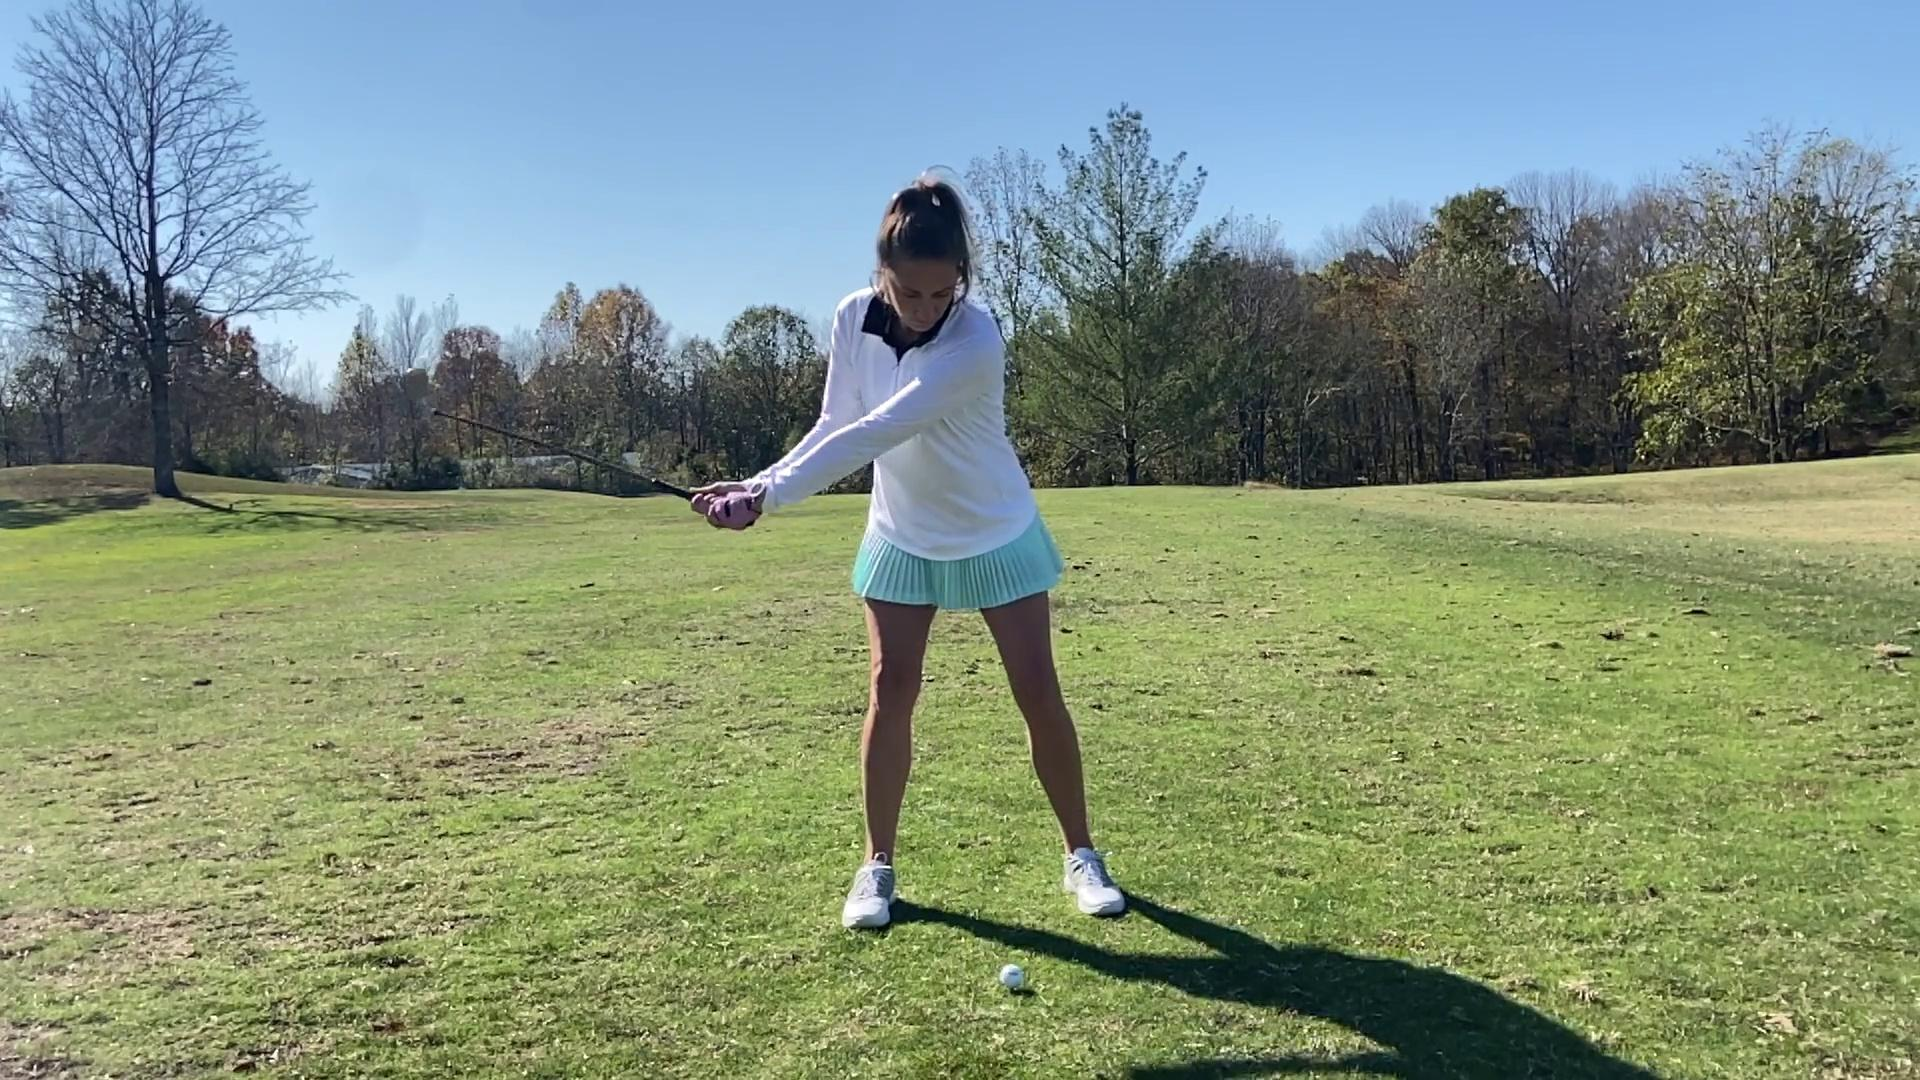ClubHead: (389, 363, 447, 421)
GolfBall: (998, 957, 1023, 992)
